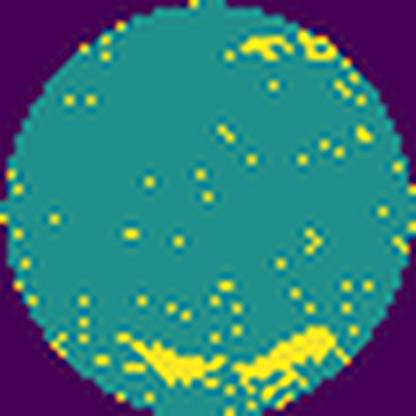Loc: (235, 326, 338, 400), (115, 332, 225, 388)
